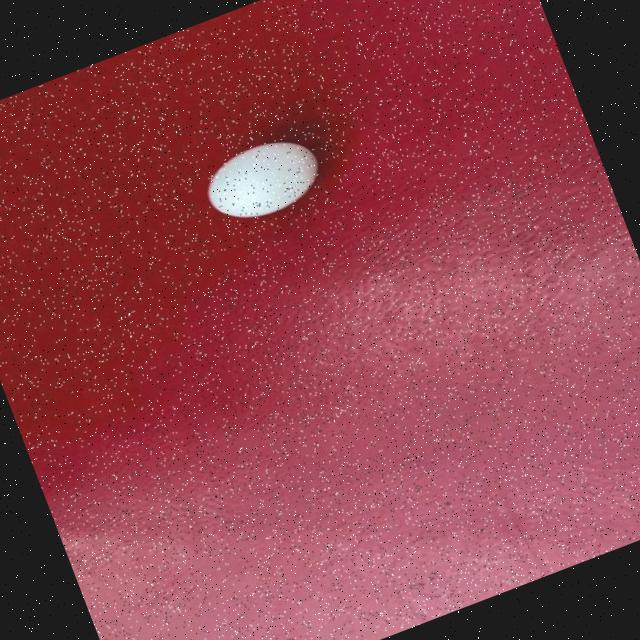ping-pong-ball: (195, 124, 335, 235)
